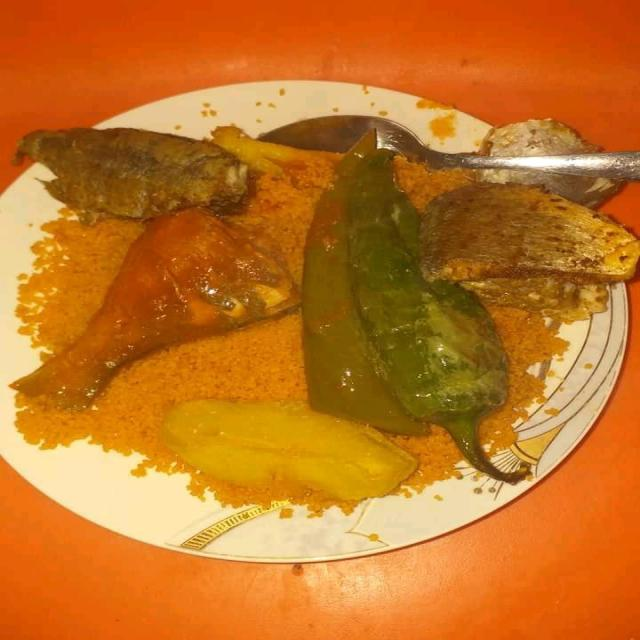Couscous: (15, 96, 614, 506)
